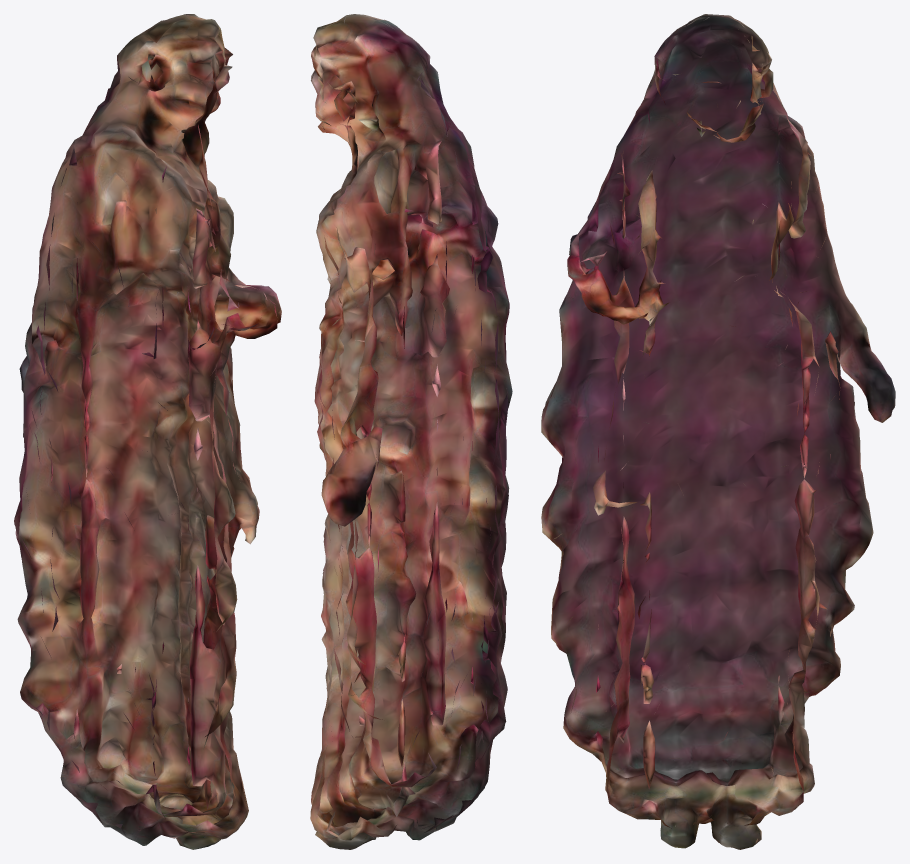
3 views of the same model, side by side, from view 1: azimuth 30°, elevation 25°; view 2: azimuth 150°, elevation 25°; view 3: azimuth 270°, elevation 25° (orthographic).
Parts seen in each view (by area): view 1: geometry_0; view 2: geometry_0; view 3: geometry_0.
Boxes of the visible parts, left/top/right/bottom form: geometry_0: left=14, top=14, right=281, bottom=849; geometry_0: left=310, top=14, right=512, bottom=849; geometry_0: left=541, top=14, right=895, bottom=849.
Size of the model in its own units: 0.3666 by 1.75 by 0.6824.
Materials: 1 (1 with a texture image).
